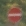No entry: (5, 5, 20, 21)
